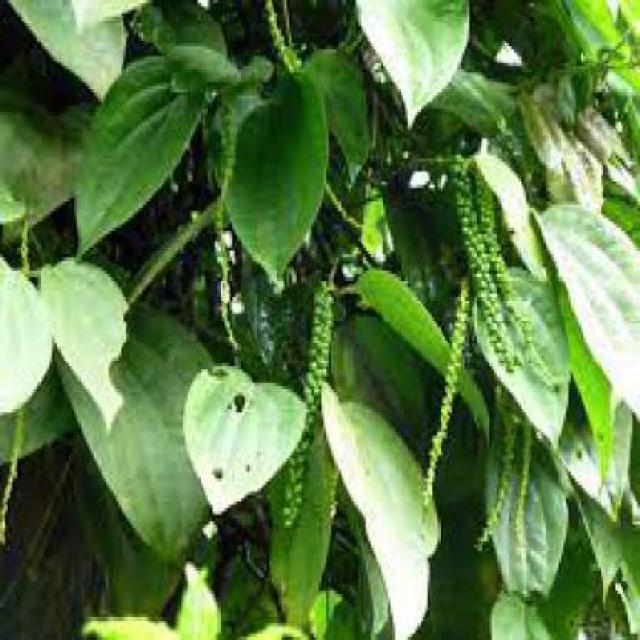UNRIPE: (437, 142, 551, 400), (417, 277, 472, 515), (285, 282, 326, 533)
